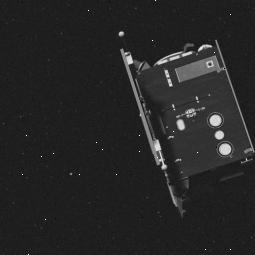proba_2: (124, 29, 244, 214)
